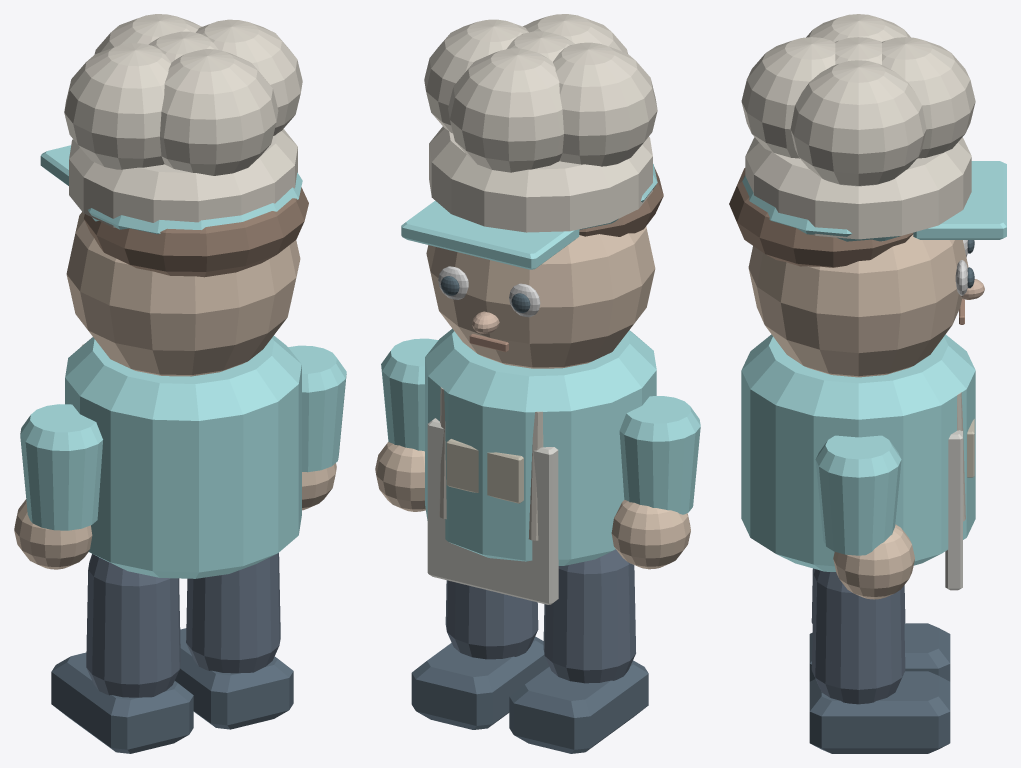
Rendered from character.glb.
The picture shows the model from 3 angles, left to right: view 1: azimuth 30°, elevation 25°; view 2: azimuth 150°, elevation 25°; view 3: azimuth 270°, elevation 25°; orthographic projection. The views are drawn at different scales.
Visible parts, largest first — view 1: character, ChefHat, Left, Right, LeftArm, RightArm, Cap; view 2: character, ChefHat, Left, Right, LeftArm, RightArm, Cap; view 3: character, ChefHat, Right, RightArm, Cap, Left.
Boxes of the visible parts, bbox=[...] form: character: bbox=[65, 187, 308, 578]; ChefHat: bbox=[64, 14, 302, 227]; Left: bbox=[51, 554, 193, 753]; Right: bbox=[175, 553, 293, 729]; LeftArm: bbox=[14, 404, 102, 569]; RightArm: bbox=[288, 345, 346, 510]; Cap: bbox=[40, 145, 302, 234]; character: bbox=[425, 167, 663, 604]; ChefHat: bbox=[424, 14, 657, 232]; Left: bbox=[509, 549, 648, 753]; Right: bbox=[411, 580, 549, 729]; LeftArm: bbox=[611, 396, 700, 569]; RightArm: bbox=[375, 338, 438, 511]; Cap: bbox=[401, 164, 657, 269]; character: bbox=[729, 168, 984, 590]; ChefHat: bbox=[741, 14, 975, 239]; Right: bbox=[809, 569, 950, 753]; RightArm: bbox=[815, 435, 914, 599]; Cap: bbox=[742, 161, 1006, 241]; Left: bbox=[809, 568, 950, 681].
Bounding box in the file's own units: 0.916 × 1.9 × 0.7118.
